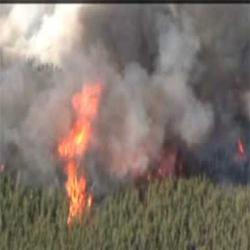fire: (60, 142, 91, 217), (72, 88, 96, 138)
smoke: (116, 81, 176, 161)
